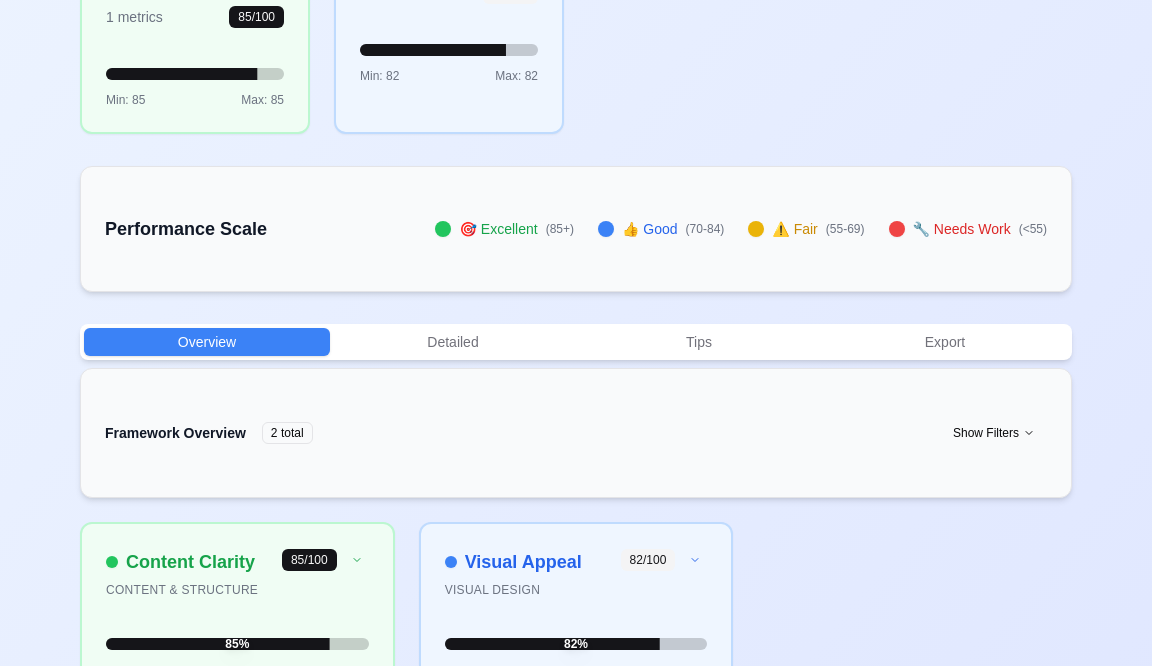
Test: Dashboard Functionality Verification › ✅ Tab Functionality (Core Feature) › should switch to Export tab and show export options
The image size is (1152, 666).
(page scrolled)
// Click Export tab
Click the tab "Export". click: (945, 342)
box: 822,328 -> 1068,356
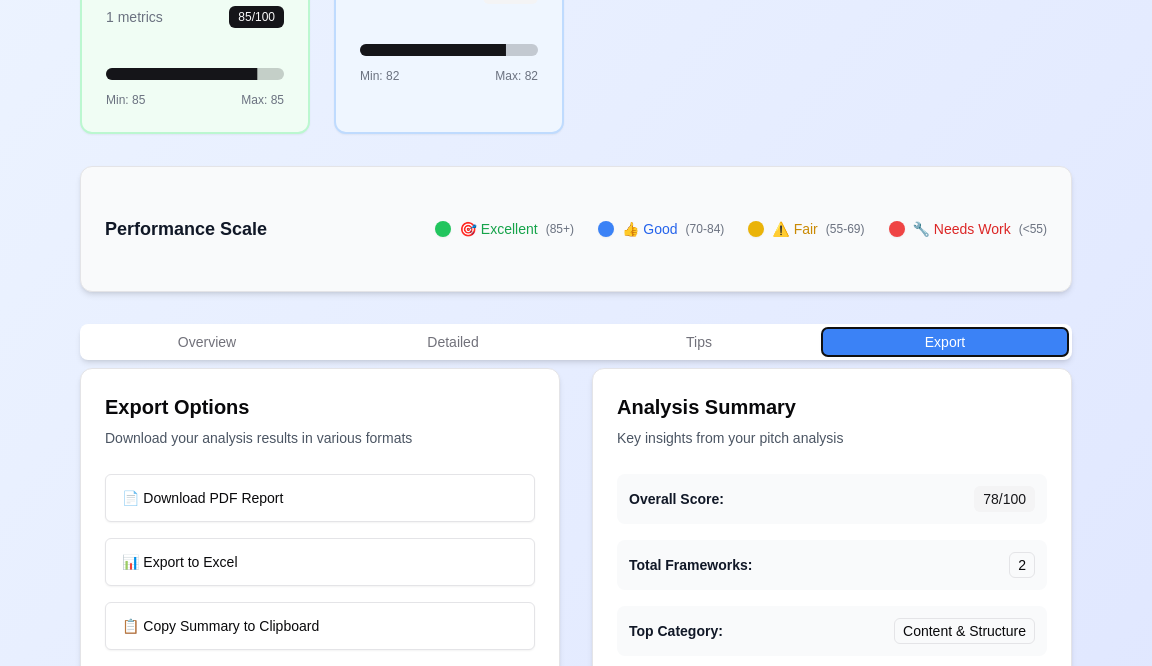
Check: the button "📄 Download PDF Report" is shown, box 105,474 -> 535,522
Check: the button "📊 Export to Excel" is shown, box 105,538 -> 535,586
Check: the text "Analysis Summary" is shown, box 617,396 -> 796,418
